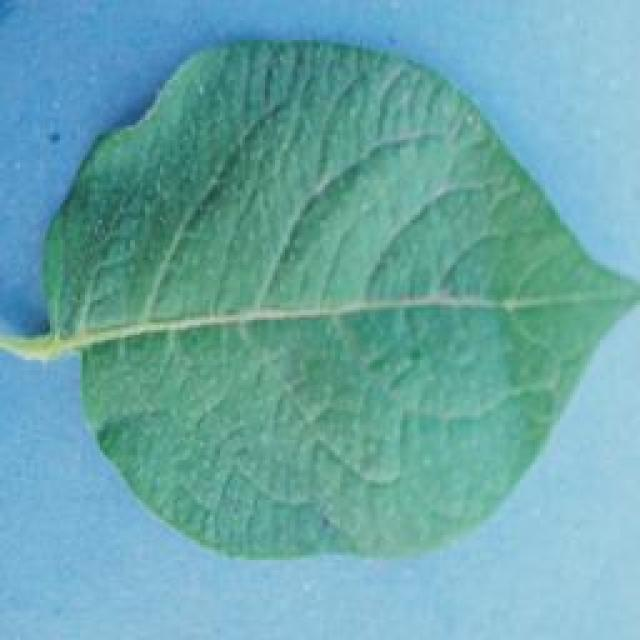Potato_Healthy: (9, 41, 636, 562)
